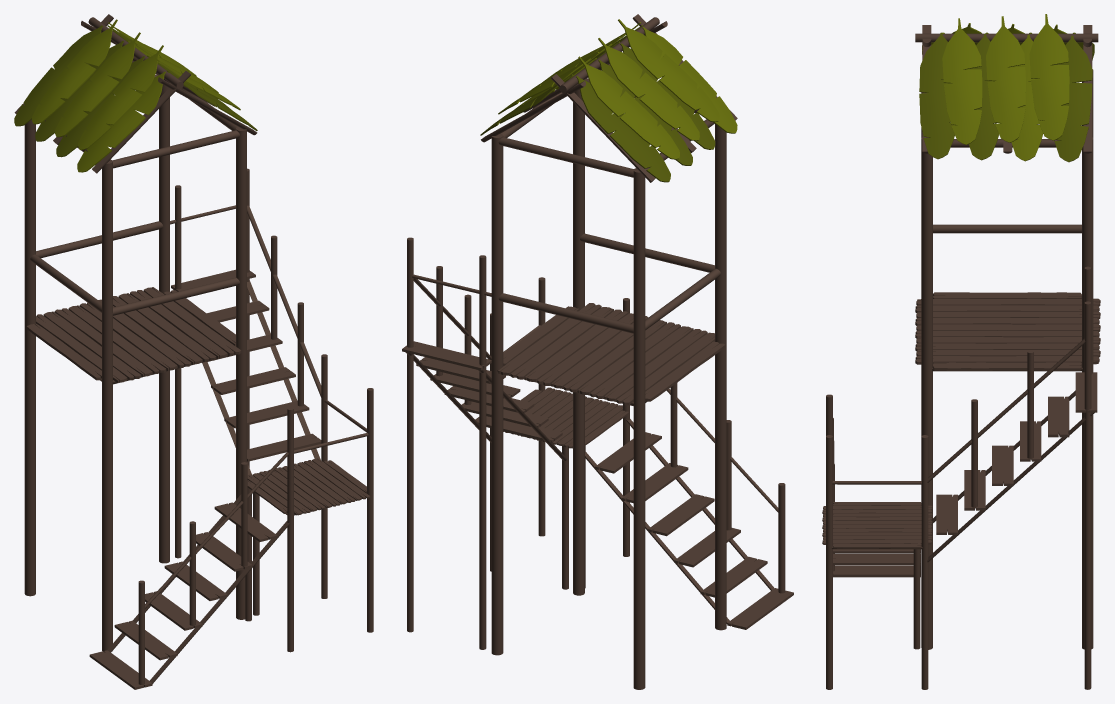
The model's file is Tower.fbx.
3 views of the same model, side by side, from view 1: azimuth 30°, elevation 25°; view 2: azimuth 150°, elevation 25°; view 3: azimuth 270°, elevation 25° (orthographic). The views are drawn at different scales.
Visible parts, largest first — view 1: Tower; view 2: Tower; view 3: Tower.
Boxes of the visible parts, x1,y1,x2,y2 form: Tower: [14, 14, 373, 689]; Tower: [402, 14, 793, 689]; Tower: [822, 14, 1100, 689].
Bounding box in the file's own units: 1080 × 2436 × 1032.
